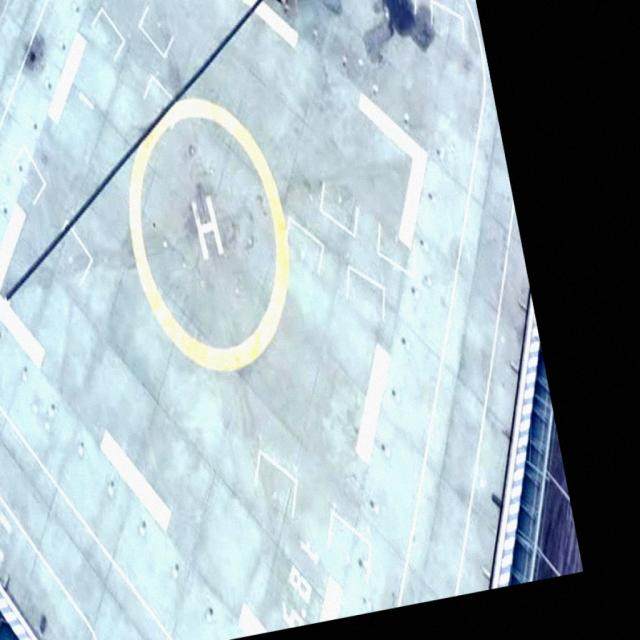helipad: (120, 92, 296, 374)
